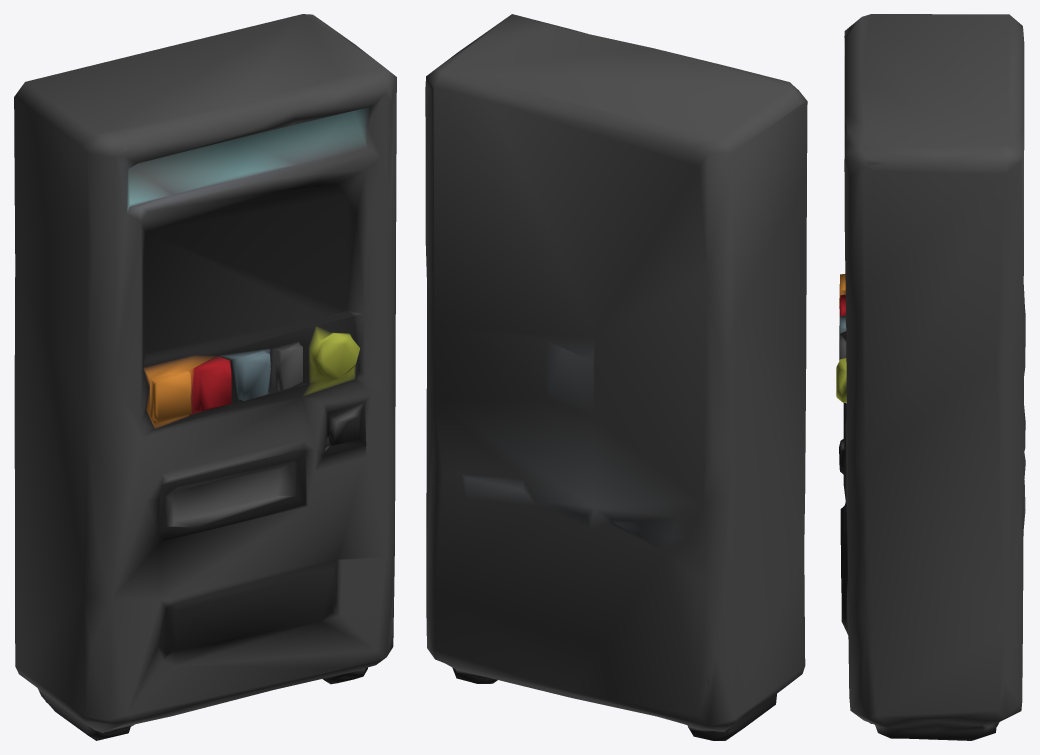
Rendered from gen3d-vending-machine-lod1.glb.
3 views of the same model, side by side, from view 1: azimuth 30°, elevation 25°; view 2: azimuth 150°, elevation 25°; view 3: azimuth 270°, elevation 25° (orthographic). The views are drawn at different scales.
Visible parts, largest first — view 1: part_0; view 2: part_0; view 3: part_0.
Boxes of the visible parts, x1,y1,x2,y2 form: part_0: [14, 14, 396, 740]; part_0: [425, 14, 807, 740]; part_0: [836, 14, 1025, 740].
Size of the model in its own units: 0.5239 by 1 by 0.2871.
